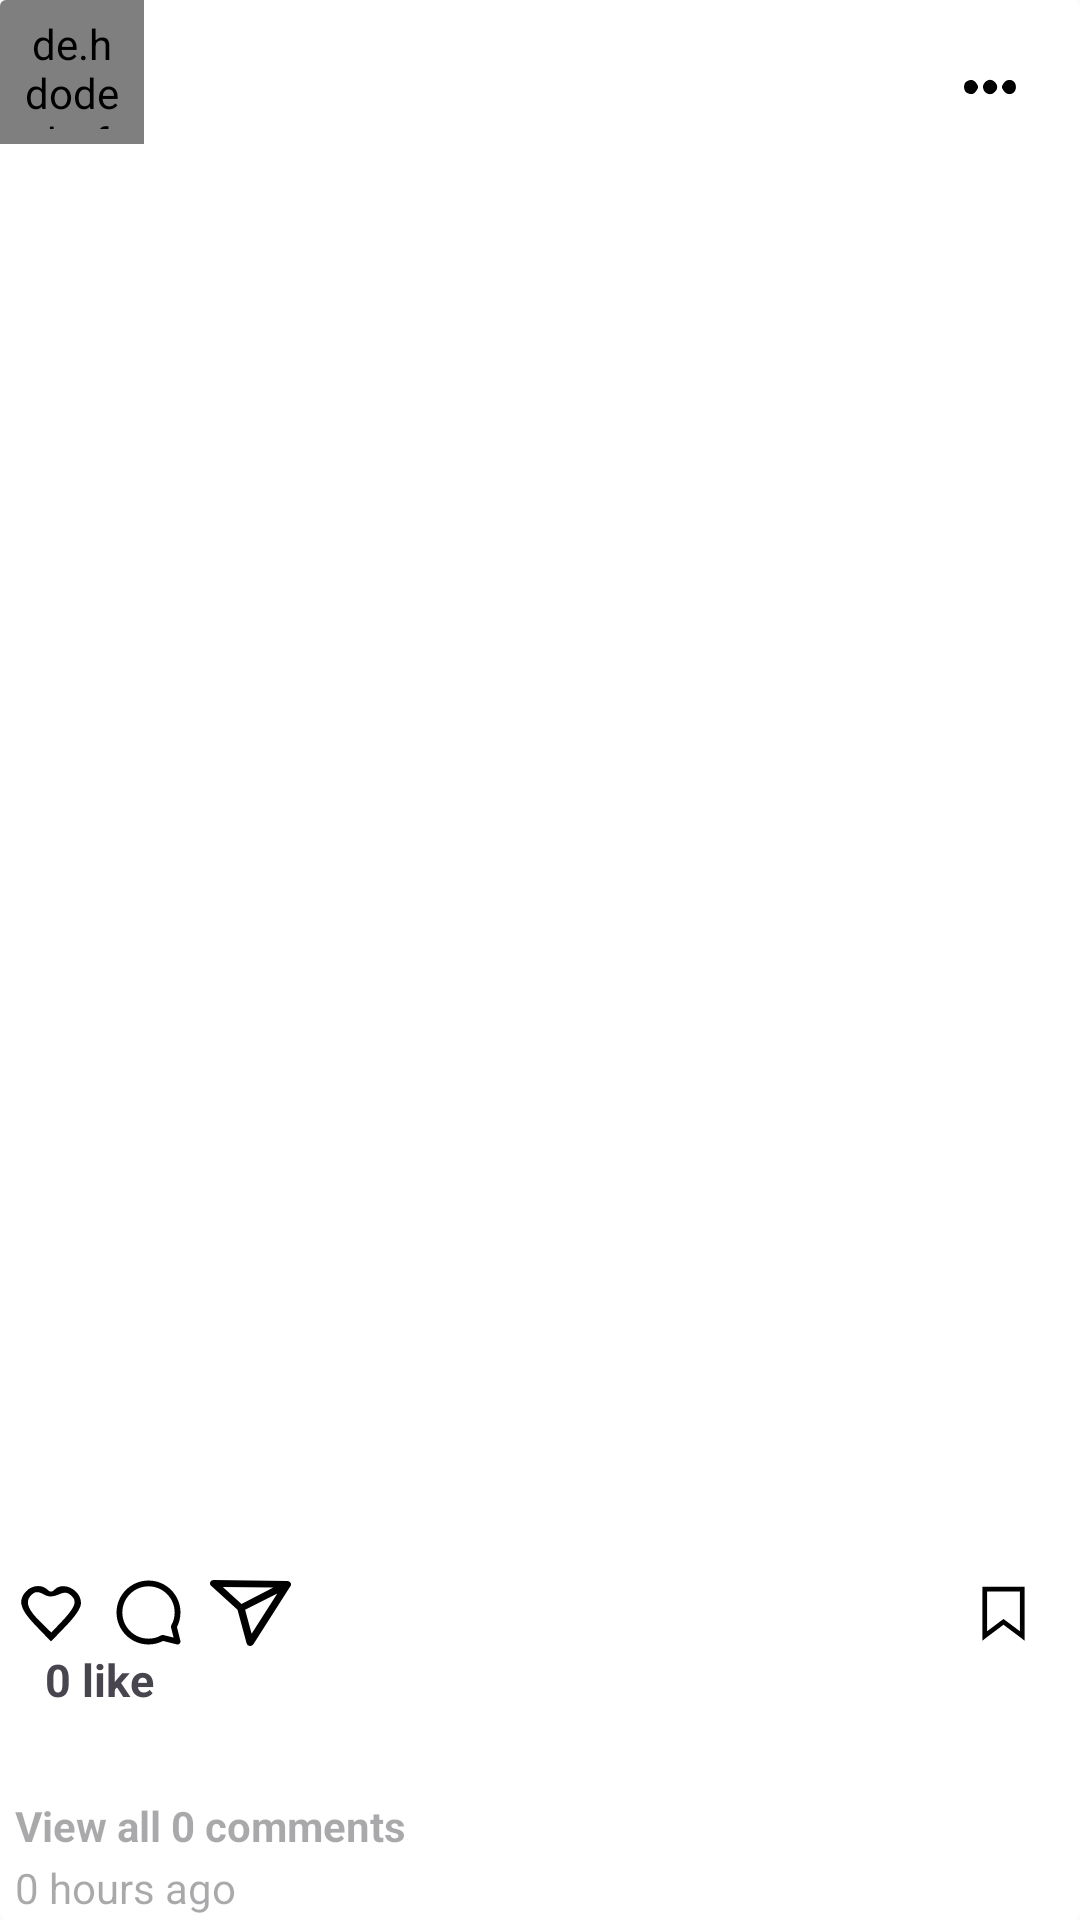

Icons on this 1080*1920 Android screen, each with its box as (x1, y1, x2, y2):
option: (964, 79, 1016, 95)
saved: (982, 1586, 1025, 1641)
share: (210, 1580, 291, 1646)
